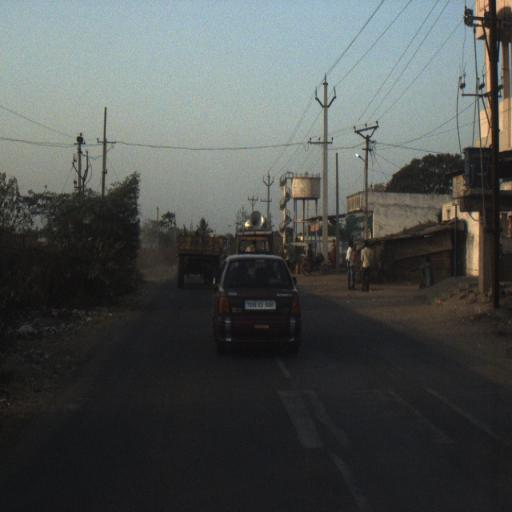street_light_0: (354, 153, 369, 170)
